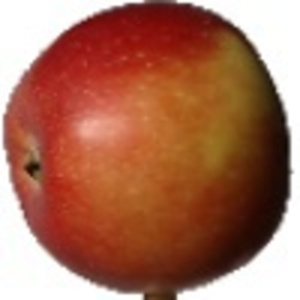maçã braeburn: (1, 3, 293, 292)
